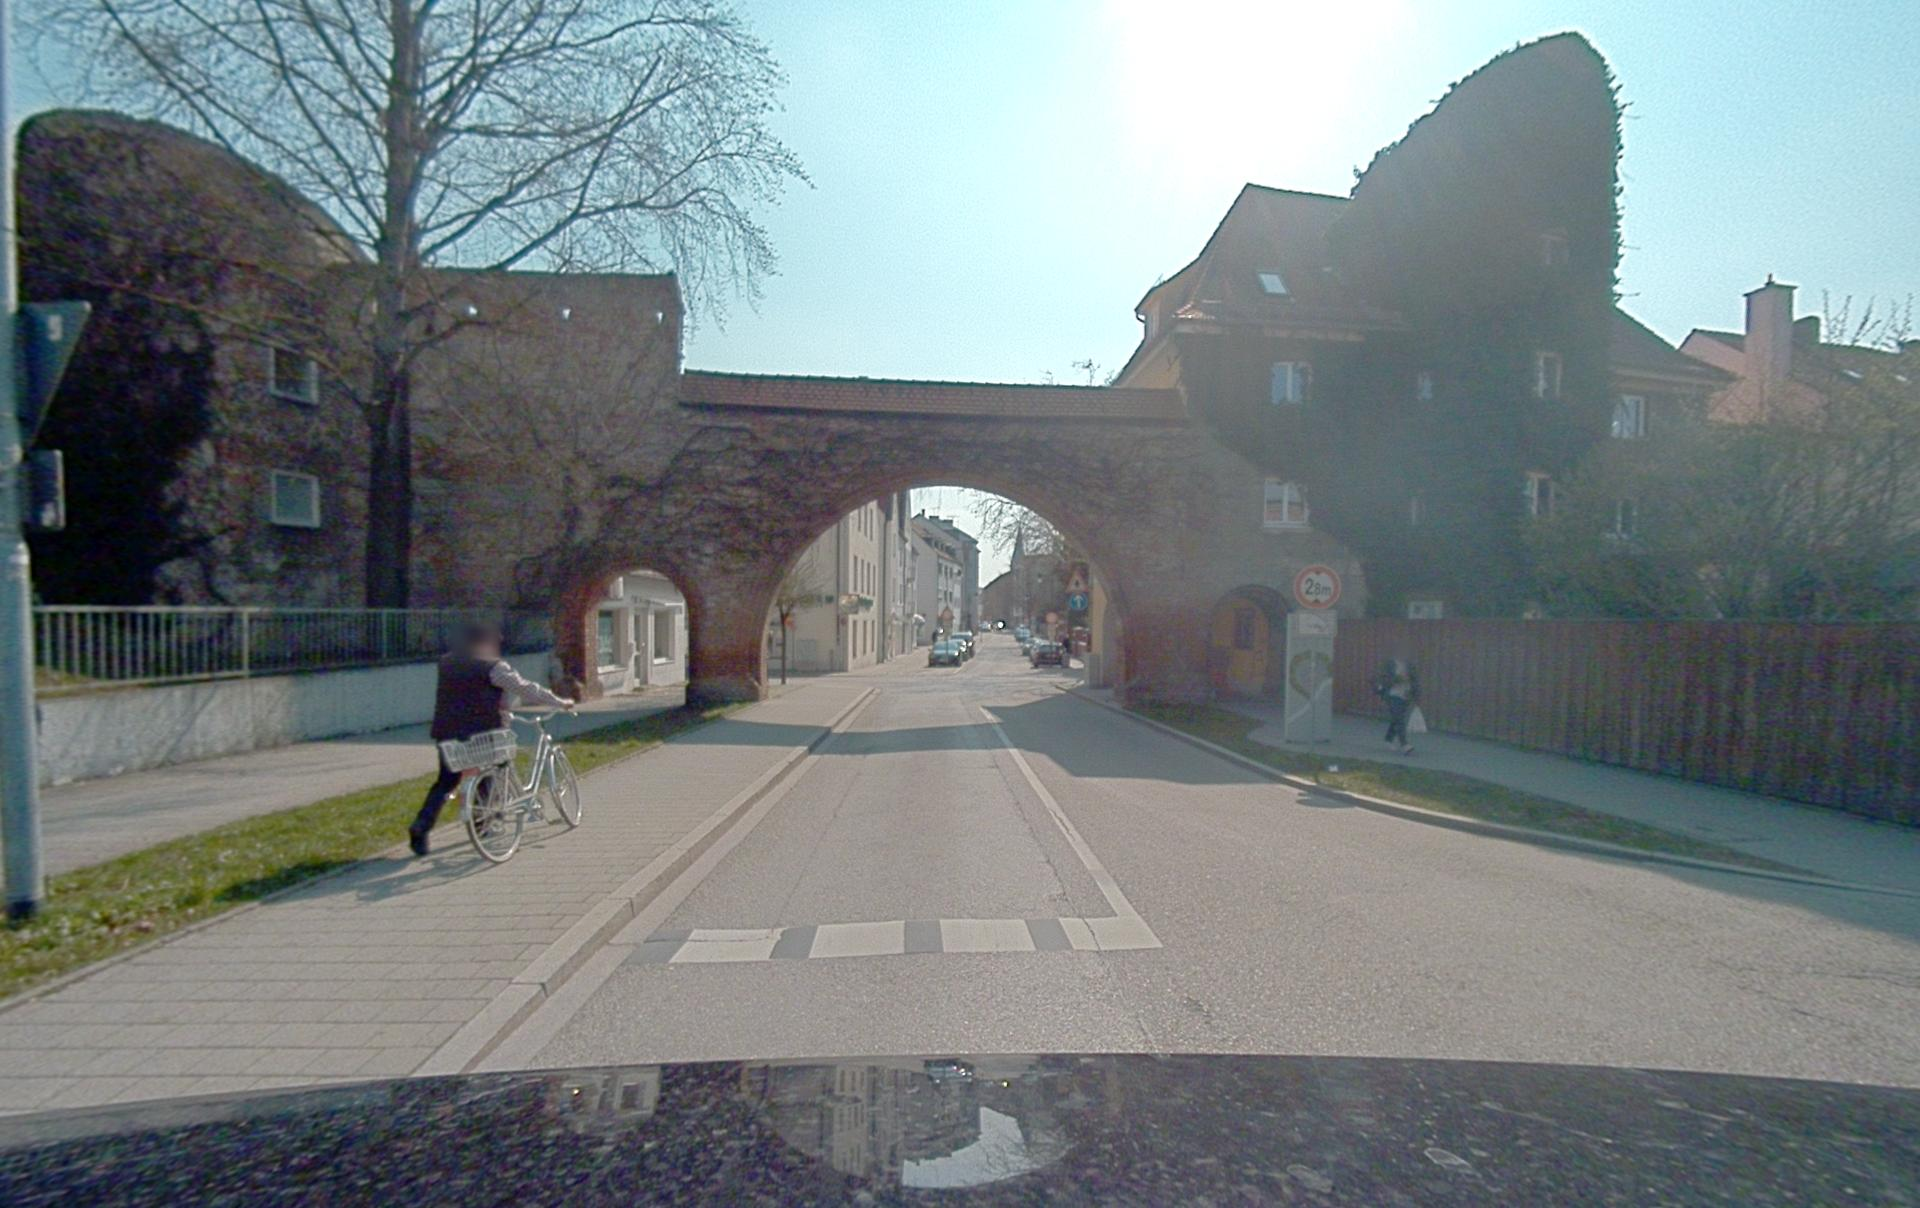car: (1030, 639, 1063, 667), (928, 639, 961, 667), (952, 630, 974, 658)
